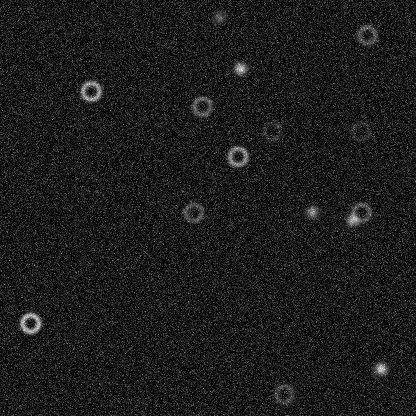Ring: (271, 381, 295, 405), (189, 94, 213, 118), (260, 118, 284, 142), (225, 144, 249, 168), (18, 311, 42, 335), (181, 200, 205, 224), (348, 119, 372, 143), (78, 79, 102, 103), (349, 200, 373, 224), (355, 22, 379, 46)
Spot: (304, 203, 320, 219), (344, 212, 360, 228), (210, 9, 226, 25), (372, 360, 388, 376), (232, 60, 248, 76)
